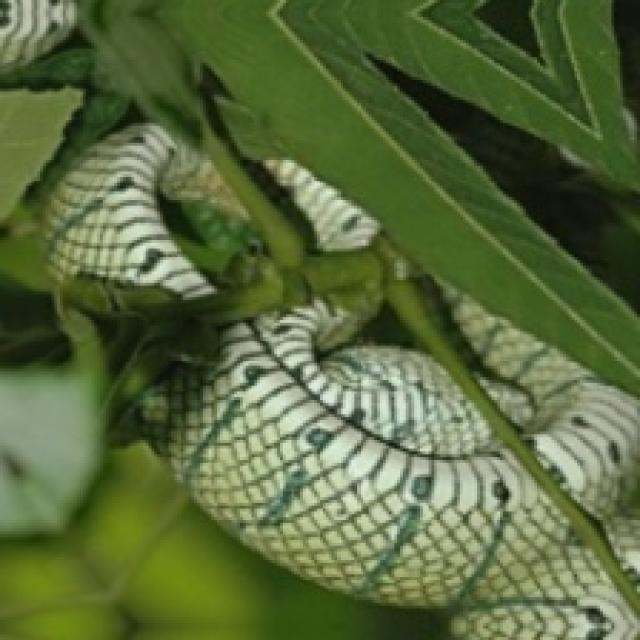north ph temple pitviper: (140, 300, 637, 637), (440, 286, 637, 554), (49, 126, 220, 326), (266, 160, 377, 249)
